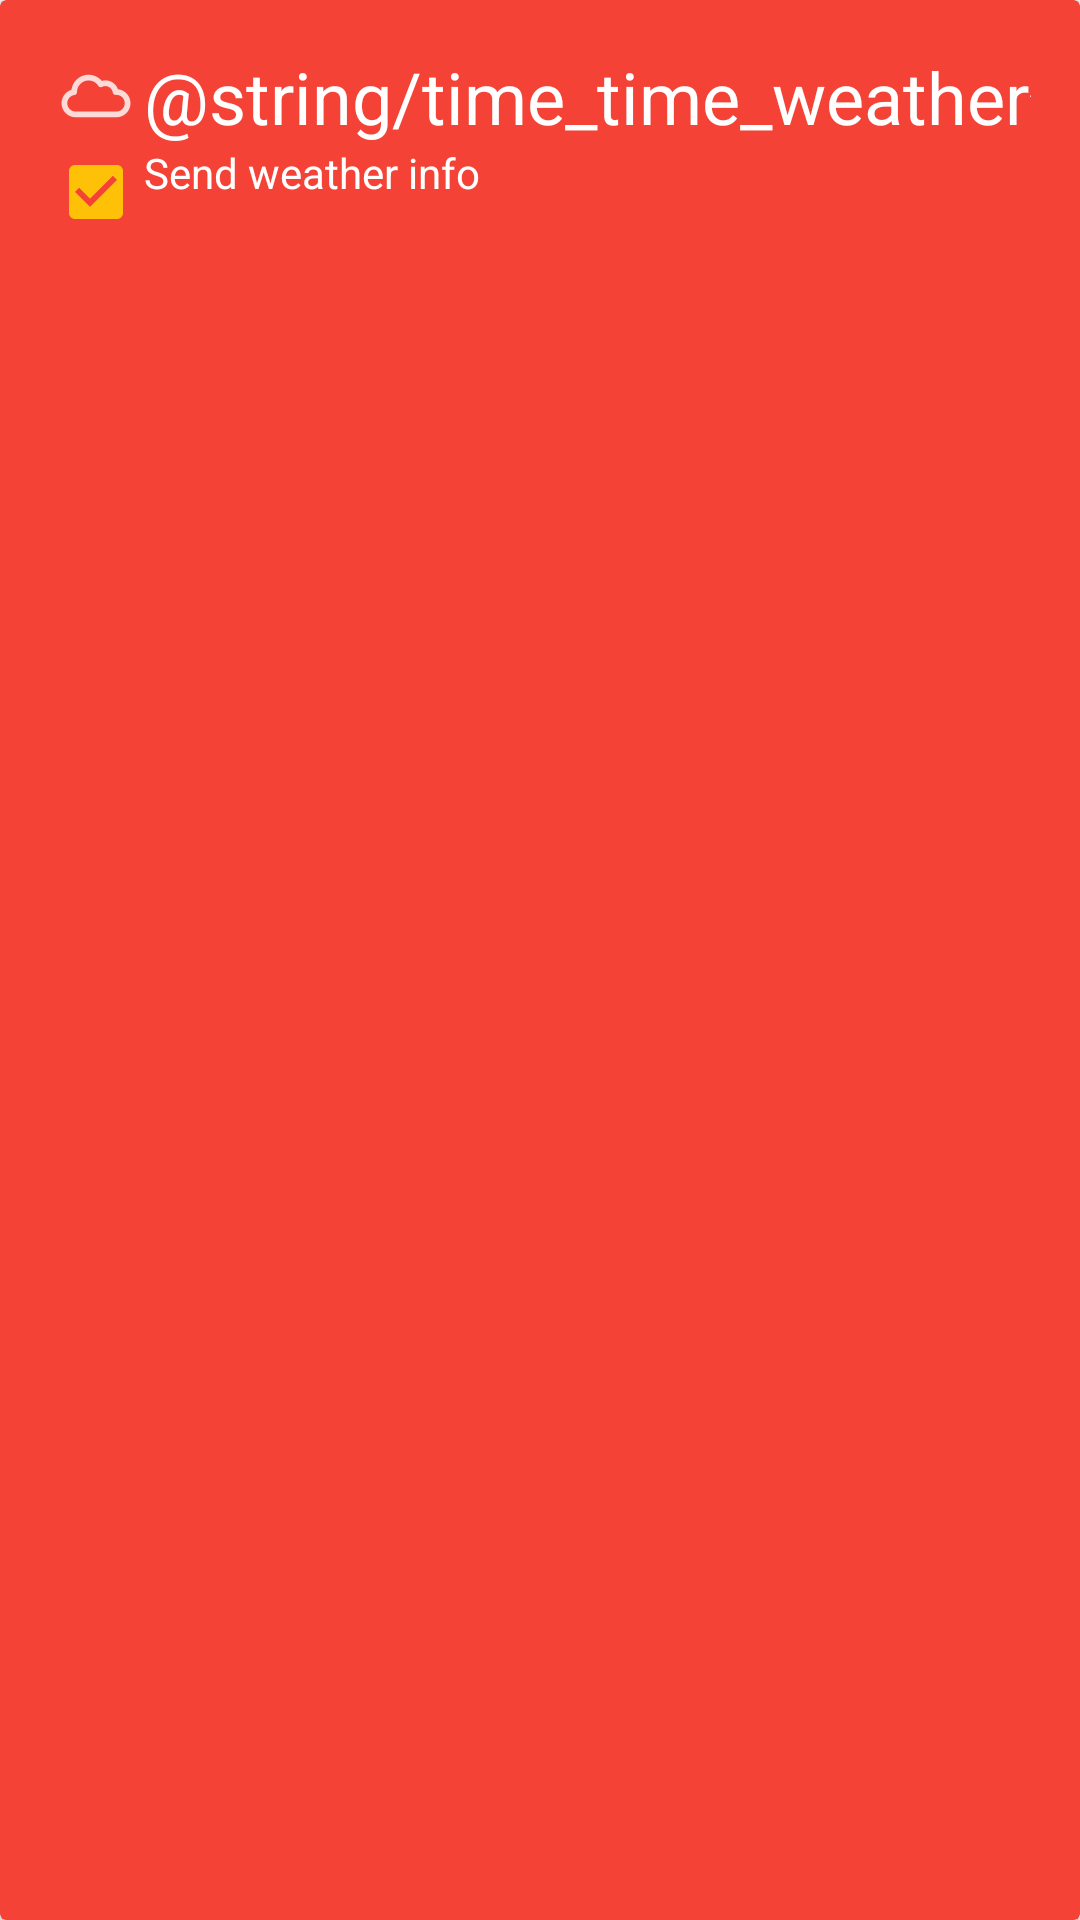

Icon bounding boxes for this 1080 × 1920 phone screenshot, format (x1, y1, x2, y2):
cloudy: (61, 74, 131, 118)
